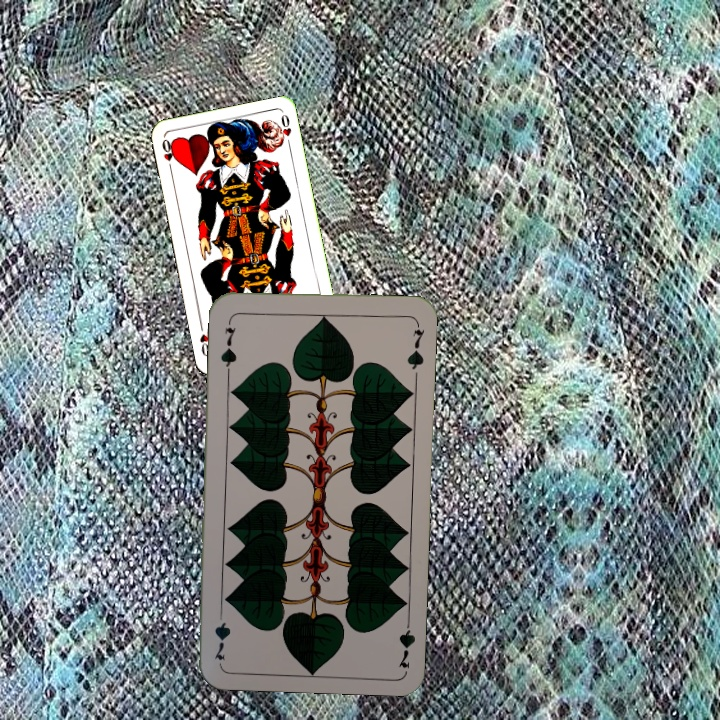G7: (394, 611, 417, 670), (216, 323, 239, 373)
HO: (158, 135, 178, 175)
